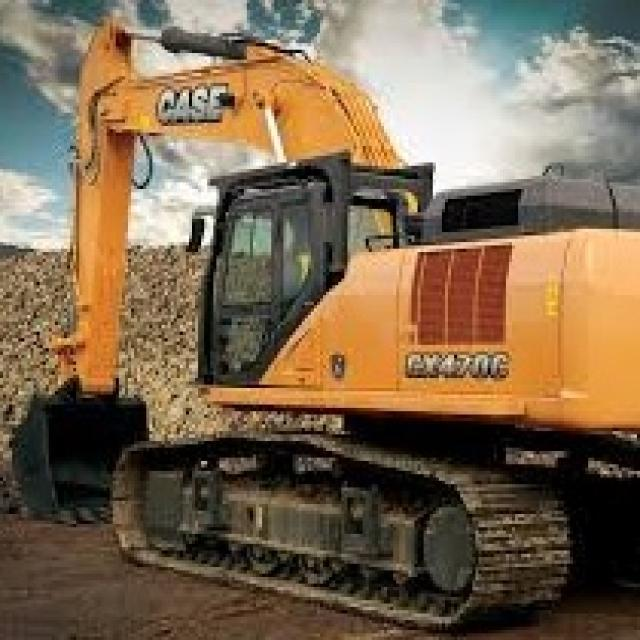excavator: (102, 169, 640, 627)
